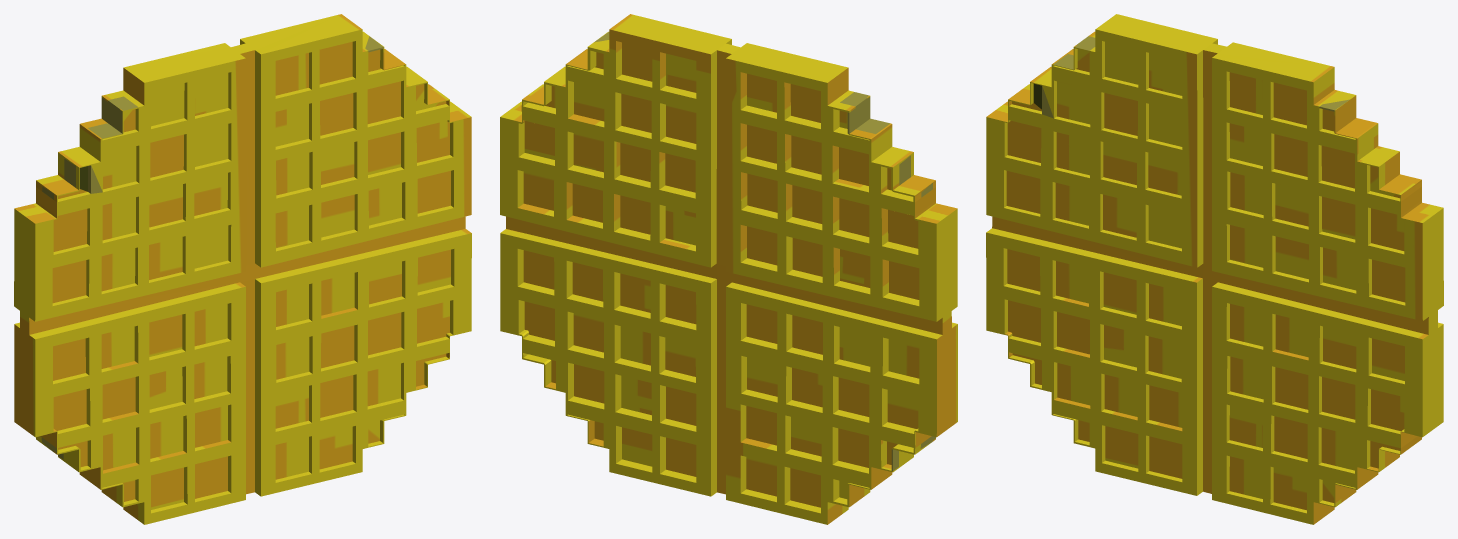
The model's file is bitwaffle.obj.
3 renders of one model, left to right at view 1: azimuth 30°, elevation 25°; view 2: azimuth 150°, elevation 25°; view 3: azimuth 330°, elevation 25°, orthographic.
Bounding box in the file's own units: 3 × 2.91 × 0.251.
